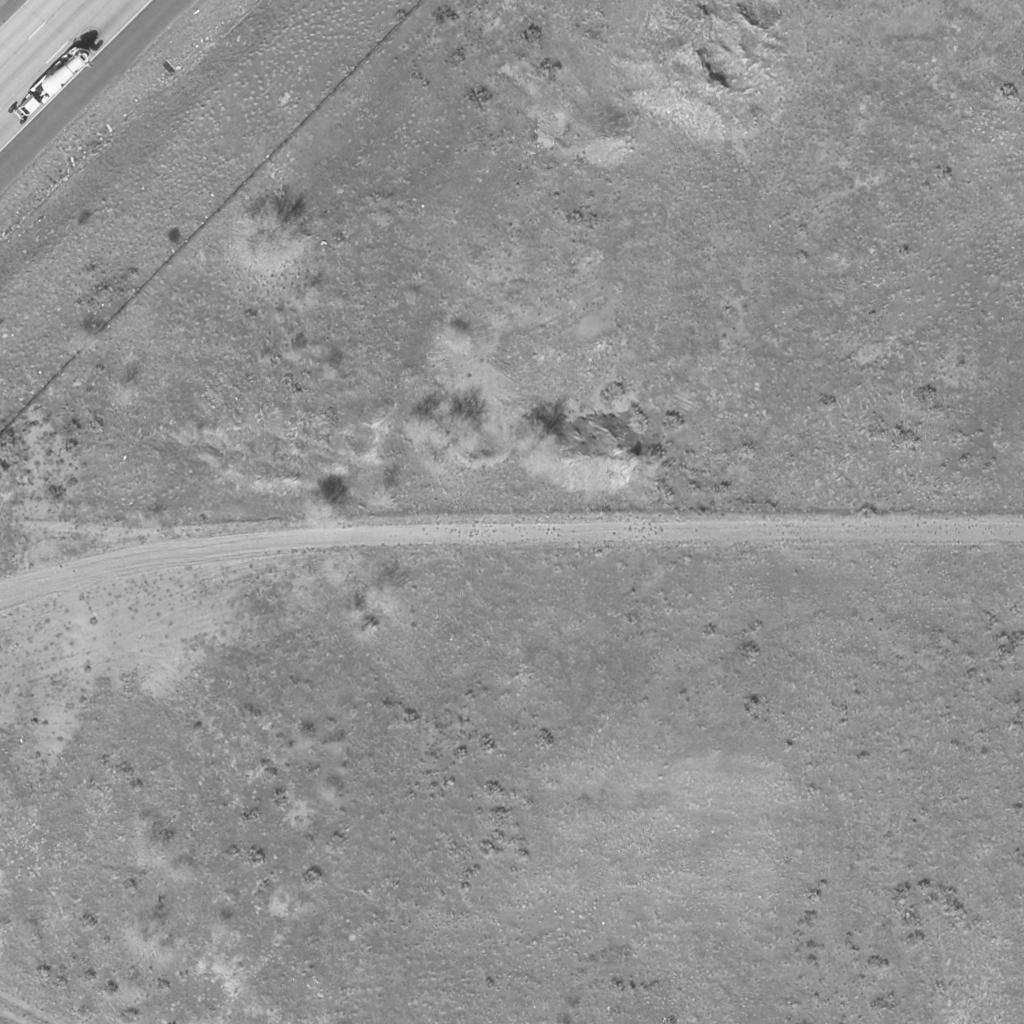vehicle: (7, 45, 93, 127)
